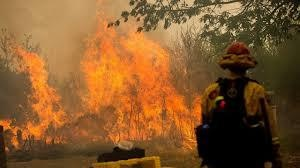fire: (3, 45, 72, 144)
